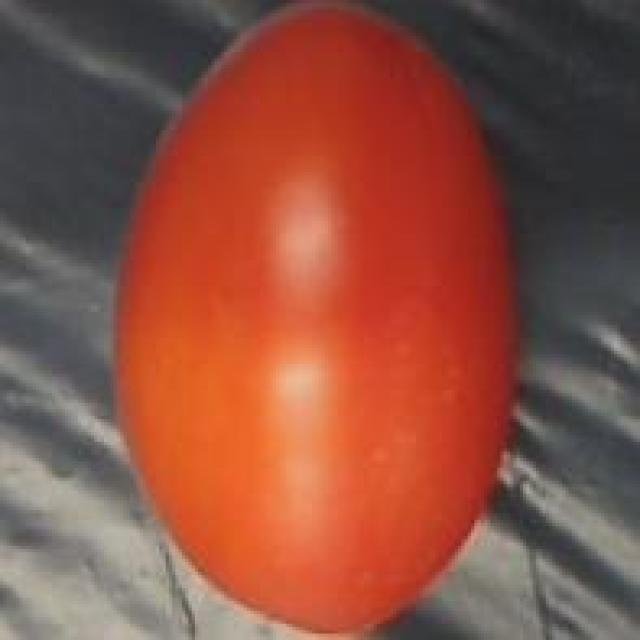ripe tomato: (94, 0, 530, 640)
